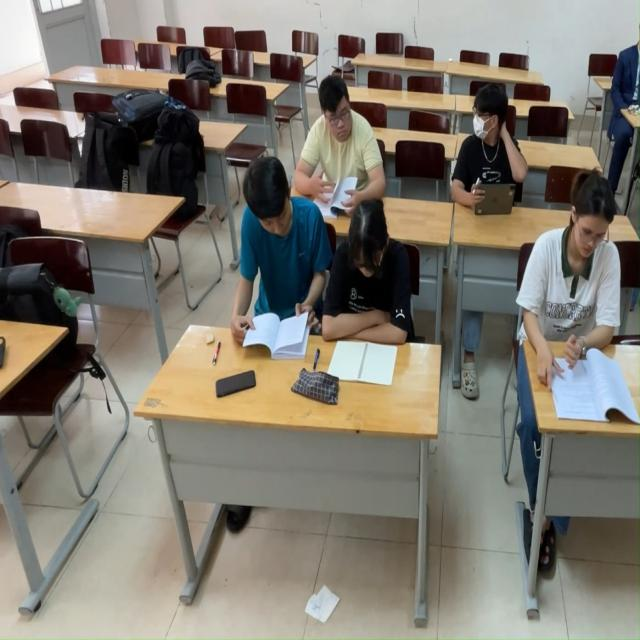read: (527, 165, 631, 409), (327, 202, 419, 385), (237, 158, 316, 368), (446, 82, 537, 231), (302, 77, 391, 219)
